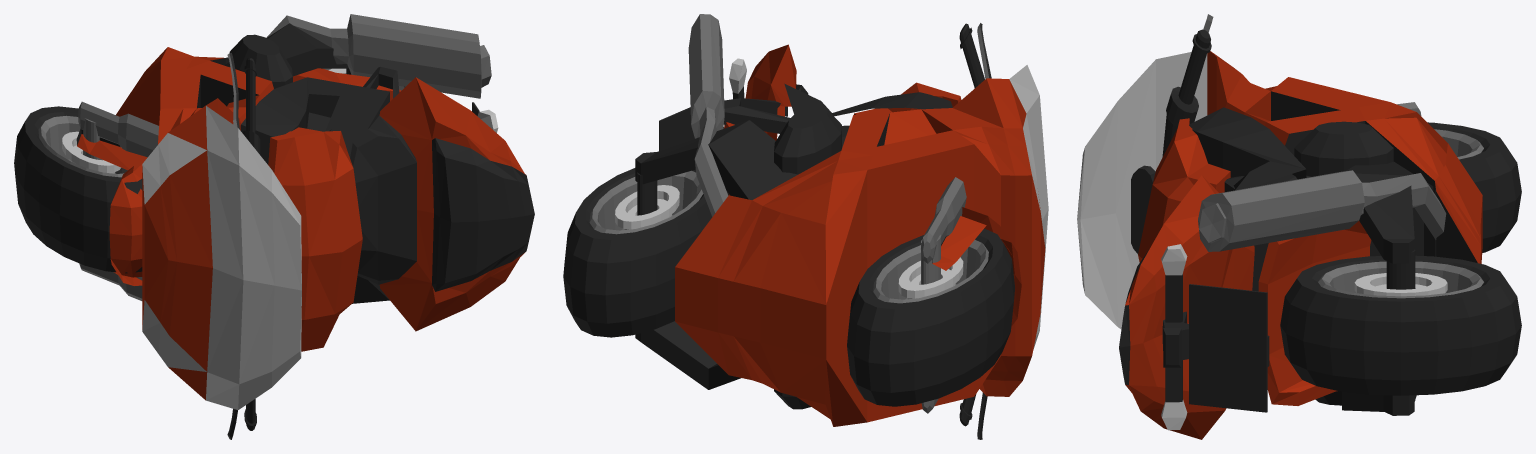
File: motorcycle-sport.glb
3 renders of one model, left to right at view 1: azimuth 30°, elevation 25°; view 2: azimuth 150°, elevation 25°; view 3: azimuth 270°, elevation 25°, orthographic. The views are drawn at different scales.
Parts seen in each view (by area): view 1: vehicle/motorcycle-sport; view 2: vehicle/motorcycle-sport; view 3: vehicle/motorcycle-sport.
Part boxes in pixels (bbox=[...]): vehicle/motorcycle-sport: bbox=[14, 14, 534, 439]; vehicle/motorcycle-sport: bbox=[563, 14, 1048, 439]; vehicle/motorcycle-sport: bbox=[1077, 14, 1521, 439].
Bounding box in the file's own units: 1 × 1 × 1.
